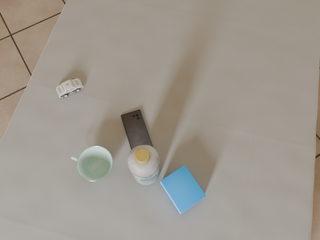bottle: (128, 145, 160, 185)
box: (161, 165, 206, 214)
cup: (71, 146, 113, 181)
phone: (121, 109, 153, 150)
toy_car: (56, 78, 83, 98)
